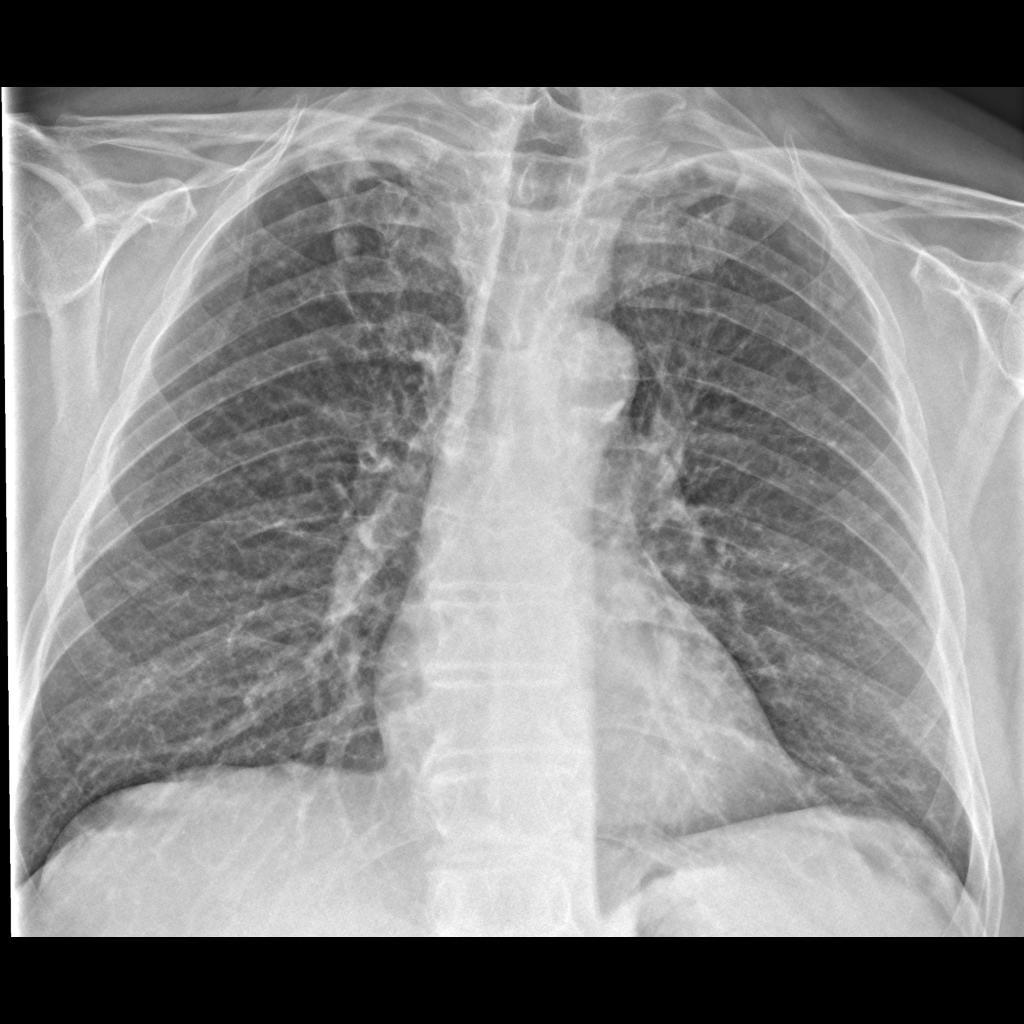Nodule: (320, 219, 366, 274)
